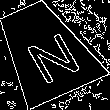N_NW: (11, 19, 79, 82)
